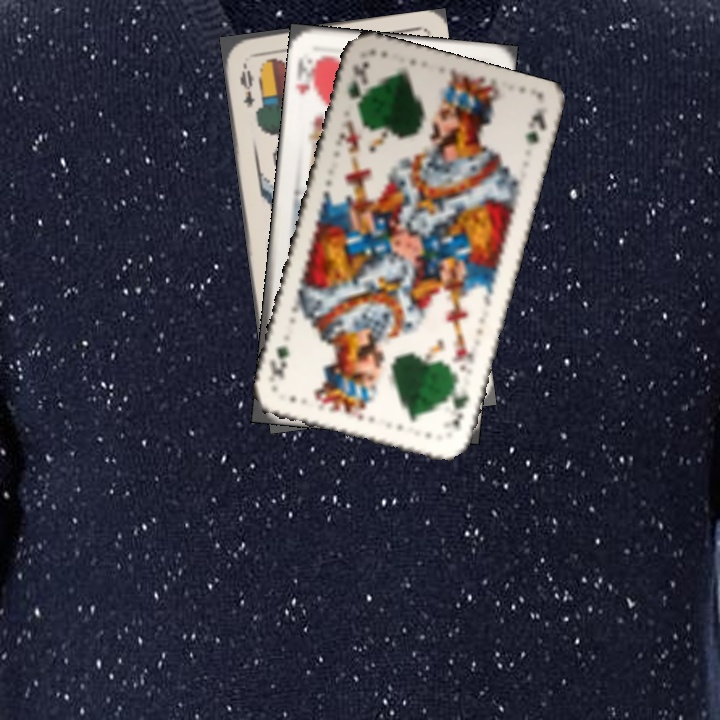EO: (235, 58, 257, 111)
GK: (343, 57, 373, 115), (447, 381, 472, 430)
HK: (291, 53, 321, 98)
